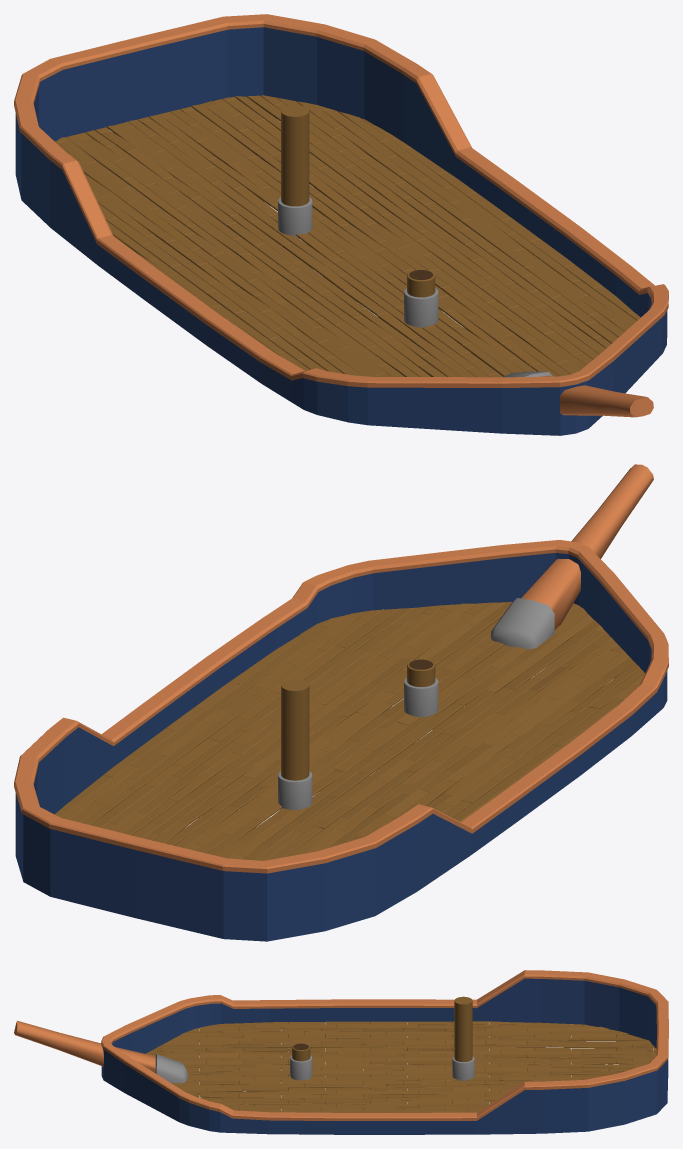
File: Board_Test.fbx
The picture shows the model from 3 angles, top to bottom: view 1: azimuth 30°, elevation 25°; view 2: azimuth 150°, elevation 25°; view 3: azimuth 270°, elevation 25°; orthographic projection. The views are drawn at different scales.
Visible parts, largest first — view 1: Plane.098, Plane.100, Cylinder.147, Plane.101, Cylinder.108; view 2: Plane.098, Plane.100, Plane.101, Cylinder.147, Cylinder.108; view 3: Plane.100, Plane.098, Plane.101, Cylinder.147, Cylinder.108.
Part boxes in pixels (x1,y1,x2,y2): Plane.098: (55, 95, 640, 377); Plane.100: (14, 14, 668, 435); Cylinder.147: (278, 105, 312, 238); Plane.101: (502, 371, 653, 417); Cylinder.108: (404, 269, 438, 327); Plane.098: (55, 602, 645, 860); Plane.100: (14, 540, 668, 941); Plane.101: (491, 464, 653, 649); Cylinder.147: (278, 679, 312, 810); Cylinder.108: (404, 659, 438, 717); Plane.100: (101, 970, 668, 1134); Plane.098: (145, 1021, 656, 1112); Plane.101: (14, 1020, 188, 1083); Cylinder.147: (452, 996, 474, 1080); Cylinder.108: (290, 1043, 312, 1080).
Size of the model in its own units: 21.21 by 8 by 49.6.
